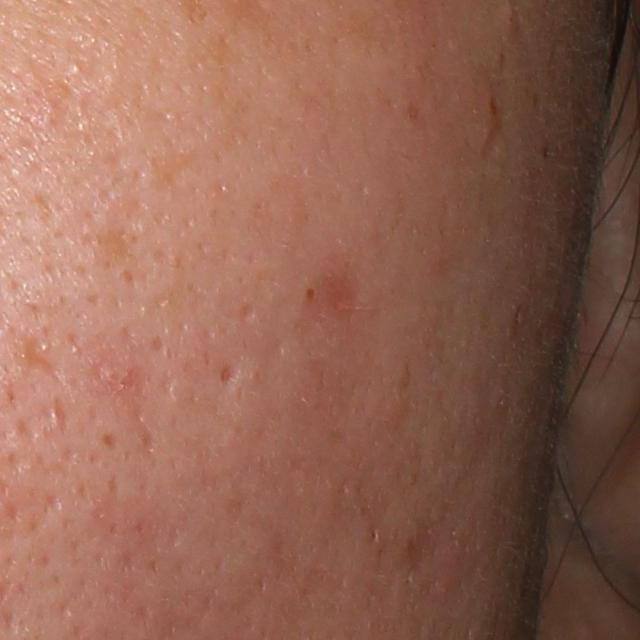atrophic_scar: (28, 53, 123, 174), (87, 348, 161, 456), (14, 329, 66, 381)
comedo: (303, 283, 320, 305)
